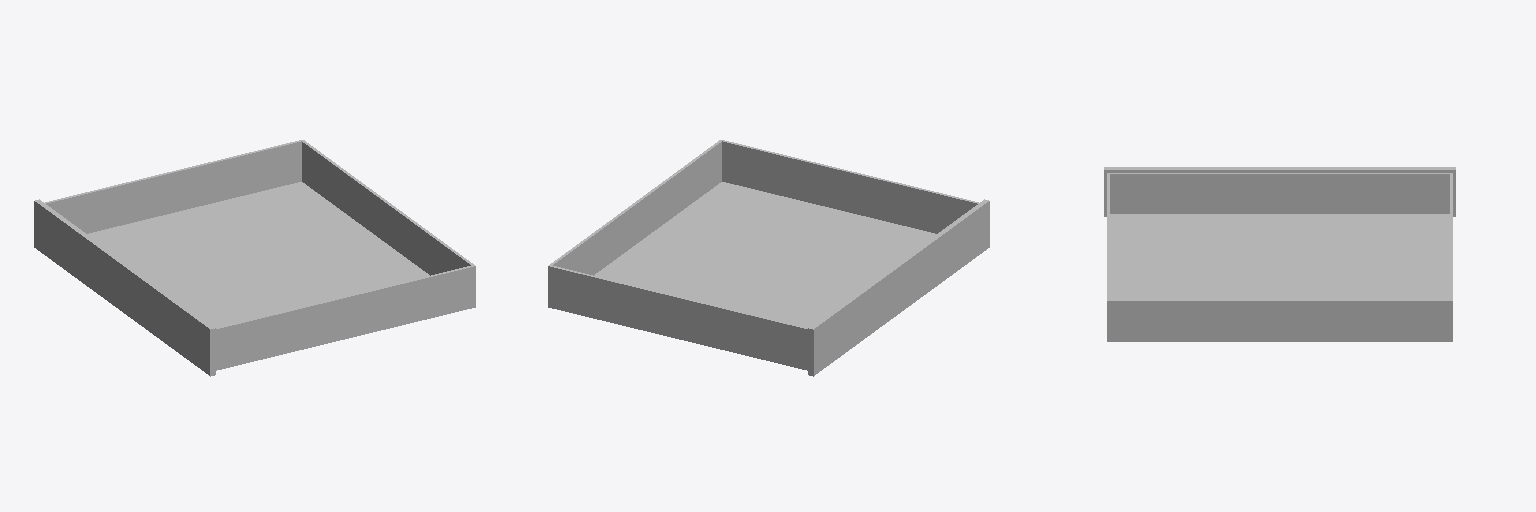
The model's file is Left_1.obj.
3 renders of one model, left to right at view 1: azimuth 30°, elevation 25°; view 2: azimuth 150°, elevation 25°; view 3: azimuth 270°, elevation 25°, orthographic.
Parts seen in each view (by area): view 1: Left_1_Mesh; view 2: Left_1_Mesh; view 3: Left_1_Mesh.
Part boxes in pixels (left/top/right/bottom): Left_1_Mesh: left=34, top=140, right=475, bottom=376; Left_1_Mesh: left=548, top=140, right=989, bottom=376; Left_1_Mesh: left=1104, top=167, right=1455, bottom=341.
Size of the model in its own units: 3.65 by 0.6127 by 4.17.